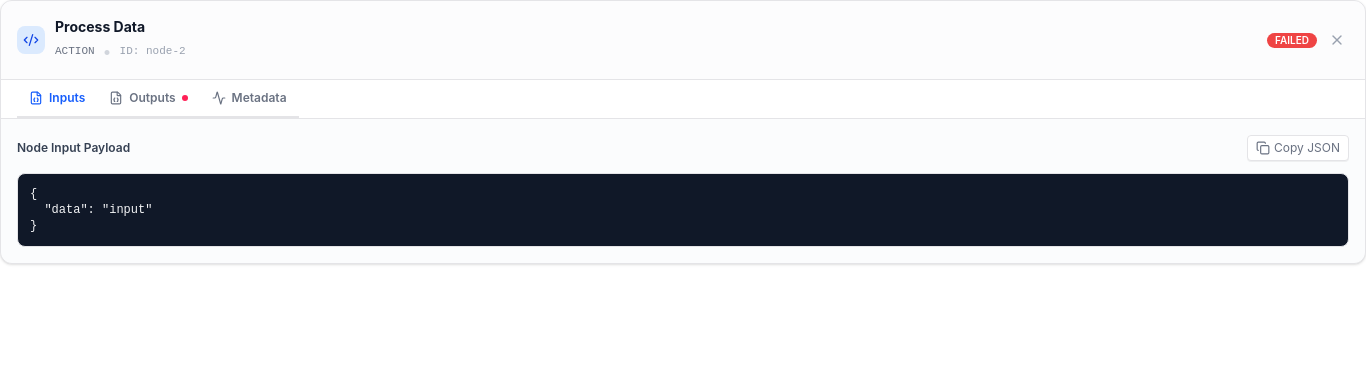
Test: Execution Console Components › Node Inspector › should show error information for failed nodes
Expected: the heading "Process Data" is shown, left=55, top=18, right=145, bottom=35
# Switch to outputs tab where error is rendered
Click the button "Outputs" at (148, 99), box left=97, top=80, right=200, bottom=118
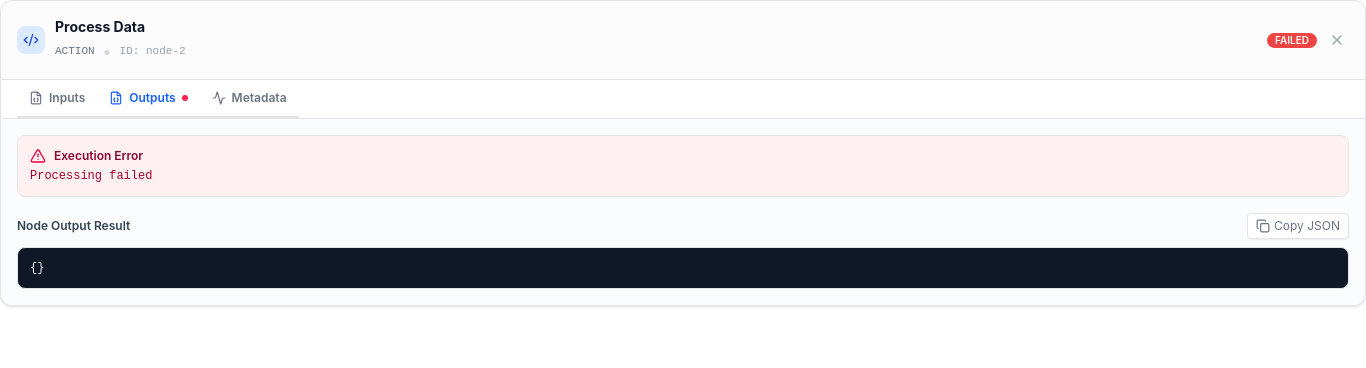
Result: the text "Processing failed" is shown at left=30, top=169, right=152, bottom=183
# Switch to metadata tab where attempt count is rendered
Click the button "Metadata" at (249, 99), box left=200, top=80, right=298, bottom=118
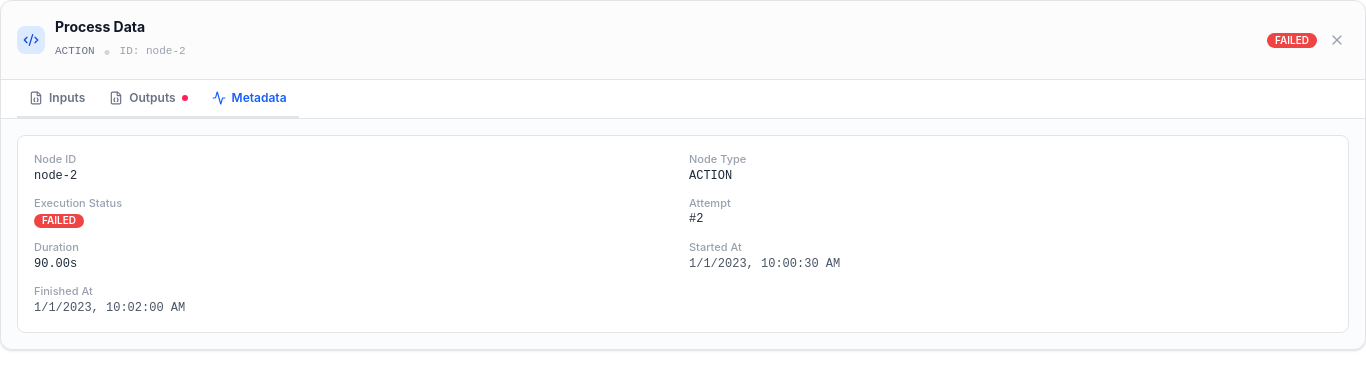
Result: the text "#2" is shown at left=689, top=212, right=703, bottom=226
